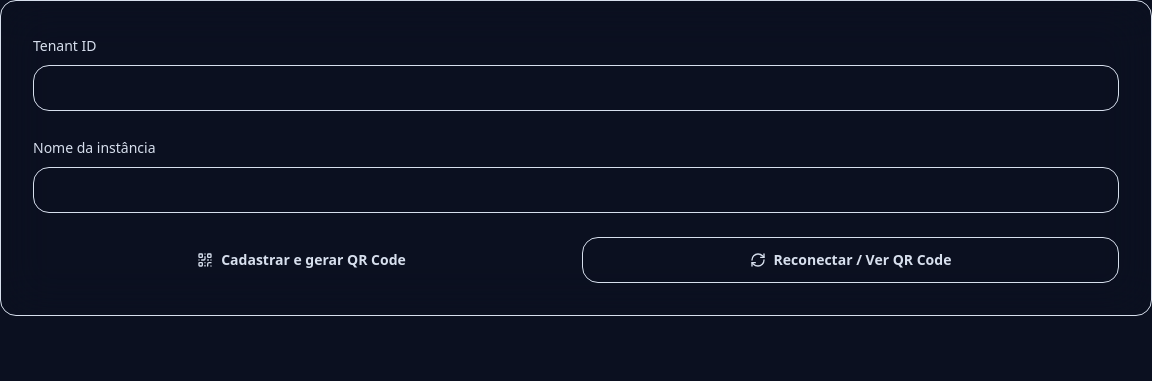
Test case: WhatsAppInstanceForm › validates required create fields
Click the button "Cadastrar e gerar QR Code" at (302,260), box [33,237,570,283]
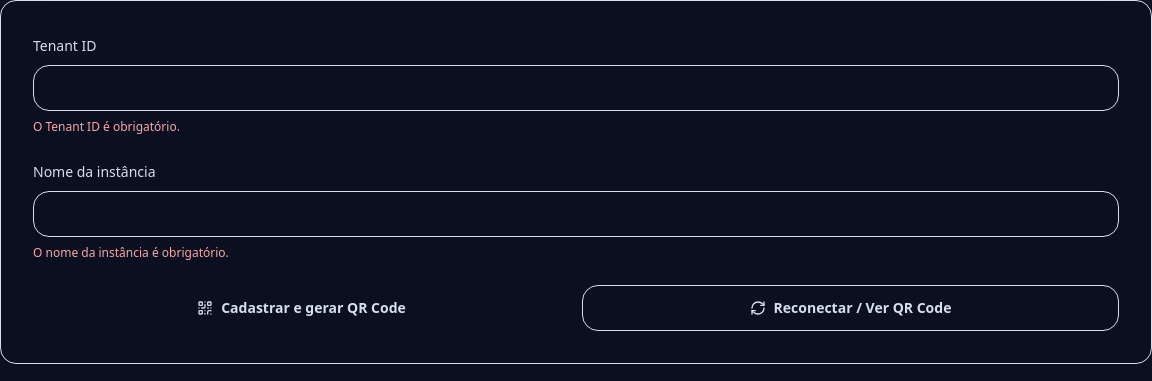
Check: the number of messages is 2, box [33,118,180,135]; [33,244,229,261]
